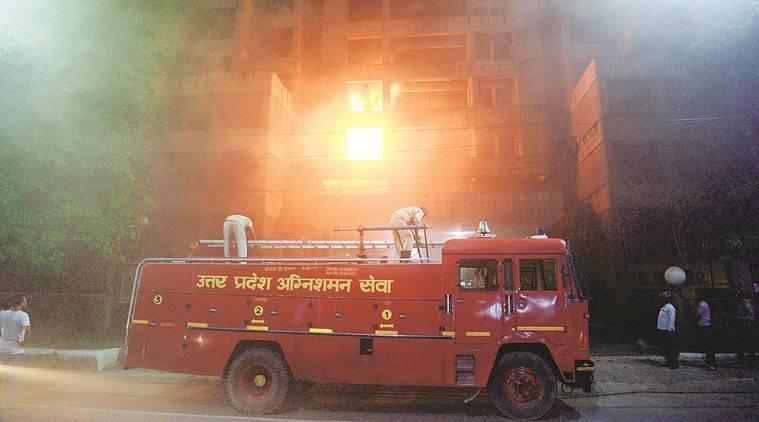Emergency-Vehicles: (131, 232, 587, 407)
